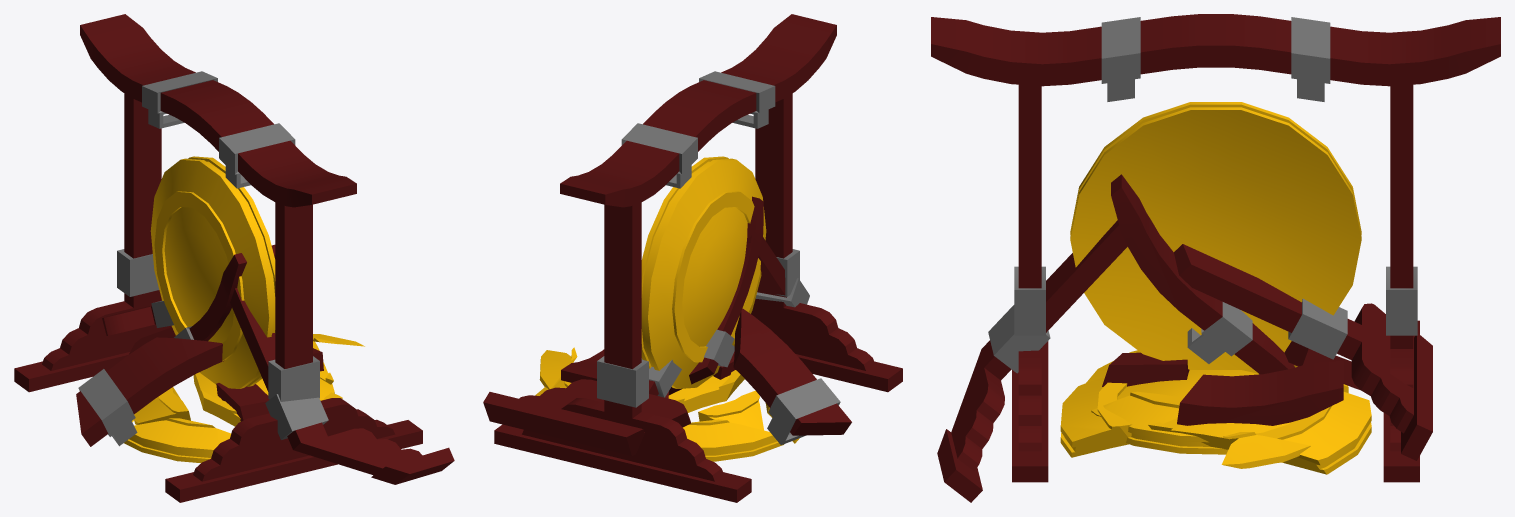
The model's file is BonkBroken.fbx.
3 renders of one model, left to right at view 1: azimuth 30°, elevation 25°; view 2: azimuth 150°, elevation 25°; view 3: azimuth 270°, elevation 25°, orthographic. The views are drawn at different scales.
Parts seen in each view (by area): view 1: BongBase, Bong, BongBase_cell, BongBase_cell.002, BongBase_cell.004, Bong_cell.003, BongBase_cell.006, BongBase_cell.007, BongBase_cell.001, Bong_cell.002, BongBase_cell.003, Bong_cell.004; view 2: BongBase, Bong, BongBase_cell.002, BongBase_cell.001, BongBase_cell.007, Bong_cell.001, BongBase_cell, BongBase_cell.006, Bong_cell.002, Bong_cell.004, BongBase_cell.004, Bong_cell (+1 smaller); view 3: BongBase, Bong, BongBase_cell.001, BongBase_cell, BongBase_cell.007, BongBase_cell.008, Bong_cell.005, Bong_cell.002, Bong_cell.006, Bong_cell, BongBase_cell.003, BongBase_cell.005.
Boxes of the visible parts, left/top/right/bottom form: BongBase: left=14, top=14, right=422, bottom=500; Bong: left=150, top=156, right=275, bottom=388; BongBase_cell: left=230, top=288, right=454, bottom=484; BongBase_cell.002: left=76, top=337, right=224, bottom=446; BongBase_cell.004: left=165, top=420, right=337, bottom=502; Bong_cell.003: left=124, top=418, right=230, bottom=463; BongBase_cell.006: left=14, top=323, right=120, bottom=392; BongBase_cell.007: left=174, top=244, right=275, bottom=368; BongBase_cell.001: left=102, top=300, right=173, bottom=335; Bong_cell.002: left=193, top=372, right=342, bottom=426; BongBase_cell.003: left=216, top=383, right=269, bottom=421; Bong_cell.004: left=134, top=387, right=190, bottom=424; BongBase: left=494, top=14, right=902, bottom=502; Bong: left=641, top=156, right=766, bottom=388; BongBase_cell.002: left=733, top=308, right=851, bottom=445; BongBase_cell.001: left=483, top=358, right=690, bottom=455; BongBase_cell.007: left=668, top=196, right=763, bottom=395; Bong_cell.001: left=683, top=419, right=783, bottom=461; BongBase_cell: left=746, top=235, right=809, bottom=307; BongBase_cell.006: left=647, top=432, right=750, bottom=502; Bong_cell.002: left=668, top=370, right=744, bottom=412; Bong_cell.004: left=698, top=390, right=763, bottom=430; BongBase_cell.004: left=759, top=308, right=901, bottom=389; Bong_cell: left=539, top=347, right=577, bottom=389; BongBase: left=931, top=14, right=1500, bottom=482; Bong: left=1070, top=102, right=1361, bottom=369; BongBase_cell.001: left=1174, top=244, right=1432, bottom=460; BongBase_cell: left=937, top=220, right=1127, bottom=502; BongBase_cell.007: left=1111, top=174, right=1294, bottom=374; BongBase_cell.008: left=1177, top=360, right=1343, bottom=425; Bong_cell.005: left=1148, top=392, right=1371, bottom=474; Bong_cell.002: left=1060, top=370, right=1258, bottom=457; Bong_cell.006: left=1091, top=391, right=1227, bottom=454; Bong_cell: left=1221, top=432, right=1310, bottom=468; BongBase_cell.003: left=1102, top=352, right=1189, bottom=386; BongBase_cell.005: left=1284, top=341, right=1359, bottom=389.
Bounding box in the file's own units: 225 × 237 × 307.
